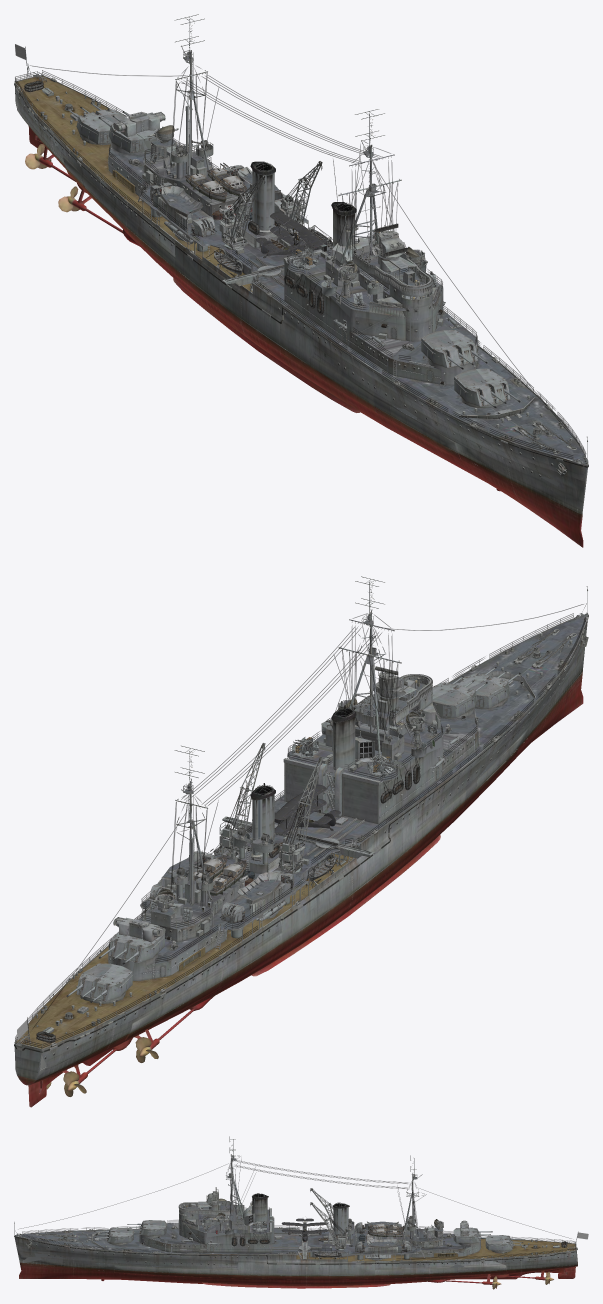
Rendered from hms_fiji_war_thunder_line_of_contact-maximum-compressed.glb.
3 views of the same model, one above another, from view 1: azimuth 30°, elevation 25°; view 2: azimuth 150°, elevation 25°; view 3: azimuth 270°, elevation 25° (orthographic). The views are drawn at different scales.
Visible parts, largest first — view 1: Object_57, Object_69, Object_55, Object_56, Object_76, Object_77, Object_16, Object_35, Object_71, Object_36, Object_48, Object_70 (+15 smaller); view 2: Object_57, Object_56, Object_69, Object_76, Object_55, Object_77, Object_16, Object_35, Object_70, Object_36, Object_71, Object_58 (+15 smaller); view 3: Object_57, Object_69, Object_55, Object_76, Object_56, Object_77, Object_16, Object_35, Object_48, Object_36, Object_71, Object_70 (+15 smaller).
Boxes of the visible parts, x1,y1,x2,y2 form: Object_57: (14,75,588,514); Object_69: (25,125,583,547); Object_55: (42,87,478,385); Object_56: (16,51,577,509); Object_76: (108,145,588,464); Object_77: (140,56,477,368); Object_16: (15,76,252,291); Object_35: (30,50,583,448); Object_71: (421,330,510,406); Object_36: (15,47,585,458); Object_48: (14,83,588,476); Object_70: (76,108,479,393); Object_57: (14,618,587,1079); Object_56: (40,622,580,1070); Object_69: (17,671,583,1107); Object_76: (108,614,588,965); Object_55: (42,675,478,1033); Object_77: (140,620,477,929); Object_16: (15,853,354,1048); Object_35: (33,604,583,1028); Object_70: (76,932,164,1001); Object_36: (15,613,585,1047); Object_71: (83,673,510,988); Object_58: (140,816,374,944); Object_57: (14,1191,577,1275); Object_69: (19,1262,577,1289); Object_55: (139,1193,559,1261); Object_76: (14,1228,473,1254); Object_56: (23,1160,576,1262); Object_77: (147,1158,442,1254); Object_16: (296,1238,575,1261); Object_35: (20,1155,570,1253); Object_48: (14,1226,576,1265); Object_36: (23,1188,576,1260); Object_71: (106,1220,166,1243); Object_70: (453,1227,513,1250).
Bounding box in the file's own units: 25.87 × 46.9 × 173.
Materials: 36 (36 with a texture image).
